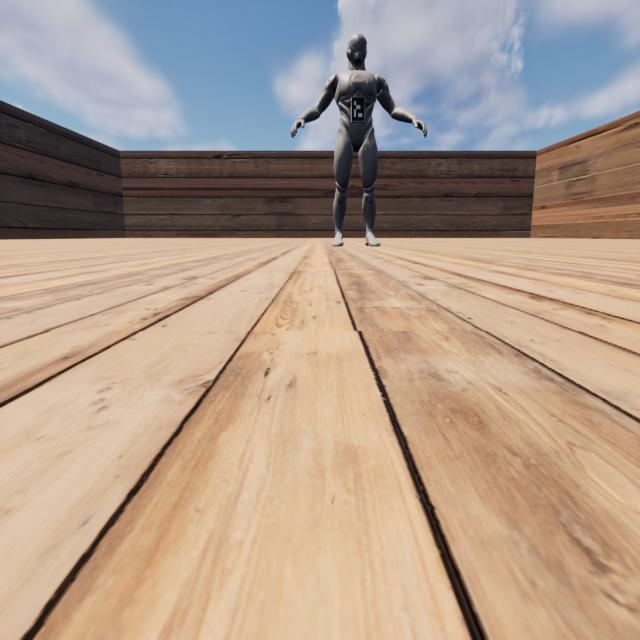aruco: (352, 97, 365, 121)
hip: (338, 126, 374, 138)
